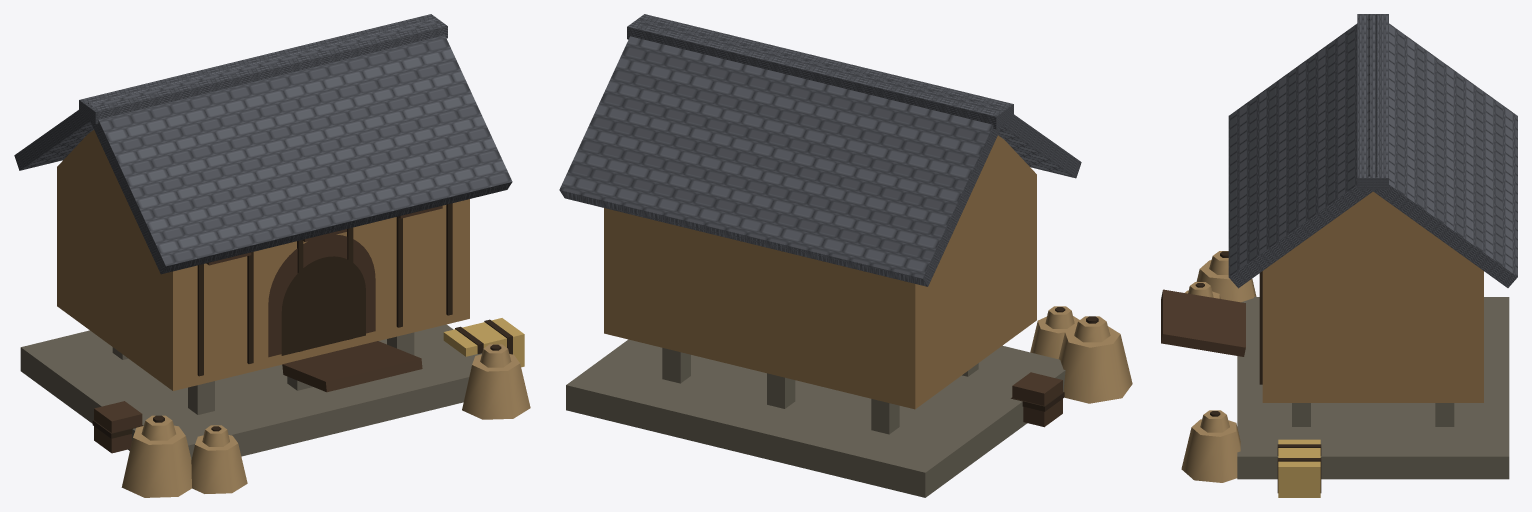
File: granary-L1.glb
3 views of the same model, side by side, from view 1: azimuth 30°, elevation 25°; view 2: azimuth 150°, elevation 25°; view 3: azimuth 270°, elevation 25° (orthographic). The views are drawn at different scales.
Visible parts, largest first — view 1: building-granary-L1; view 2: building-granary-L1; view 3: building-granary-L1.
Boxes of the visible parts, x1=… form: building-granary-L1: x1=14, y1=14, x2=530, y2=497; building-granary-L1: x1=559, y1=14, x2=1132, y2=497; building-granary-L1: x1=1161, y1=14, x2=1517, y2=497.
Bounding box in the file's own units: 2.09 × 1.5 × 1.59.
Materials: 7 (1 with a texture image).
